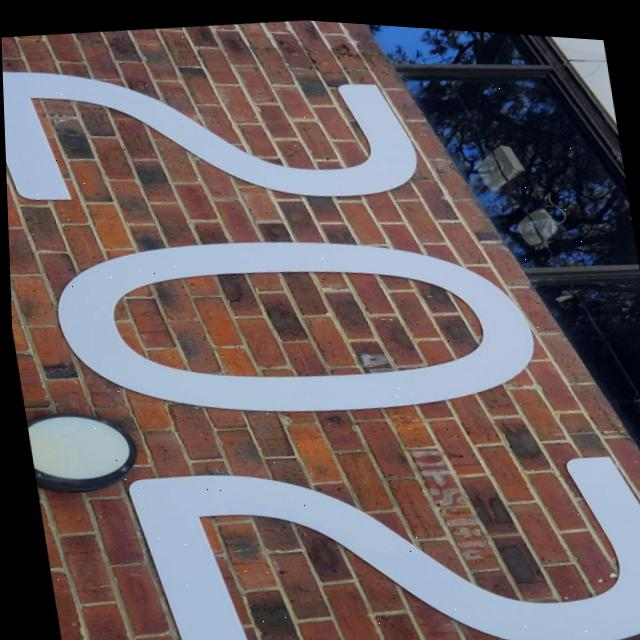character: (40, 193, 548, 459), (114, 410, 640, 640), (1, 19, 428, 248)
